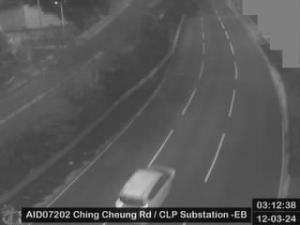vehicle: (105, 165, 176, 225)
